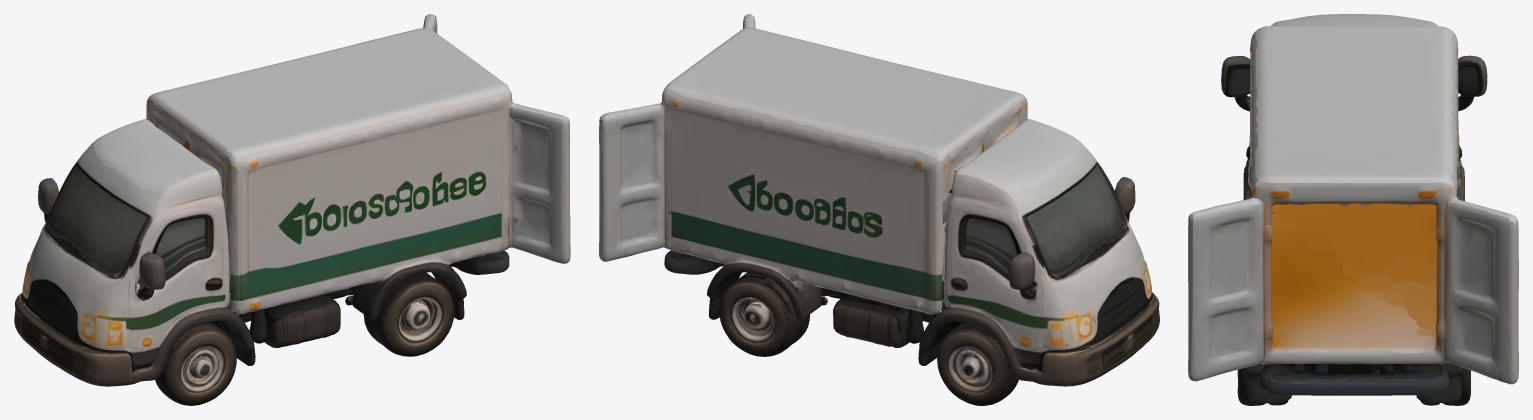
Rendered from big-truck.glb.
The picture shows the model from 3 angles, left to right: view 1: azimuth 30°, elevation 25°; view 2: azimuth 150°, elevation 25°; view 3: azimuth 270°, elevation 25°; orthographic projection. The views are drawn at different scales.
Visible parts, largest first — view 1: textured_mesh.obj; view 2: textured_mesh.obj; view 3: textured_mesh.obj.
Part boxes in pixels (x1,y1,x2,y2): textured_mesh.obj: (14, 14, 570, 405); textured_mesh.obj: (599, 14, 1159, 405); textured_mesh.obj: (1188, 14, 1518, 405).
Size of the model in its own units: 1.99 by 0.9996 by 1.08.
1 material, 1 textured.
